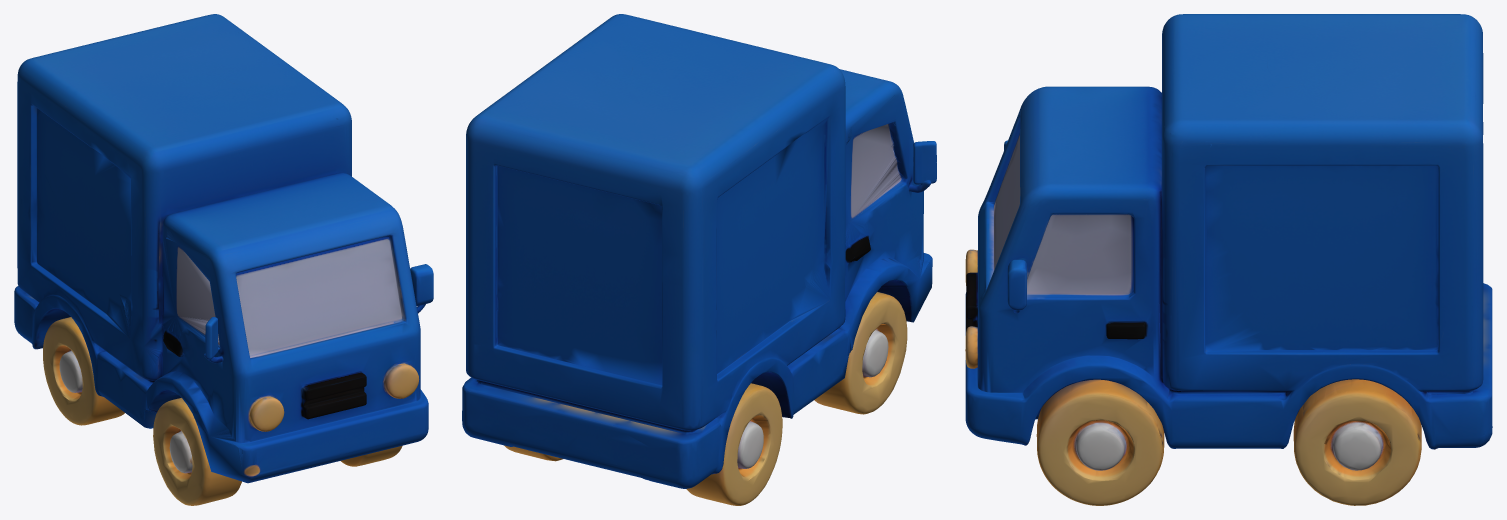
The model's file is truck8.glb.
The picture shows the model from 3 angles, left to right: view 1: azimuth 30°, elevation 25°; view 2: azimuth 150°, elevation 25°; view 3: azimuth 270°, elevation 25°; orthographic projection. The views are drawn at different scales.
Visible parts, largest first — view 1: texture_pbr_v128; view 2: texture_pbr_v128; view 3: texture_pbr_v128.
Part boxes in pixels (x1,y1,x2,y2): texture_pbr_v128: (14, 14, 433, 505); texture_pbr_v128: (462, 14, 936, 505); texture_pbr_v128: (965, 14, 1492, 505).
Size of the model in its own units: 0.369 by 0.506 by 0.6308.
1 material, 1 textured.
